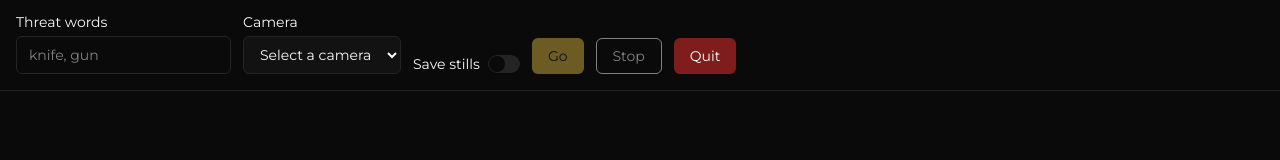
it: test_go_disabled_until_valid_words_and_camera › is disabled until words are valid and a camera is chosen
The image size is (1280, 160).
Check: the button "Go" is disabled, box [532,38,584,74]
Type "knife" into the field with placeholder "knife, gun" at (124, 55), box [16,36,231,74]
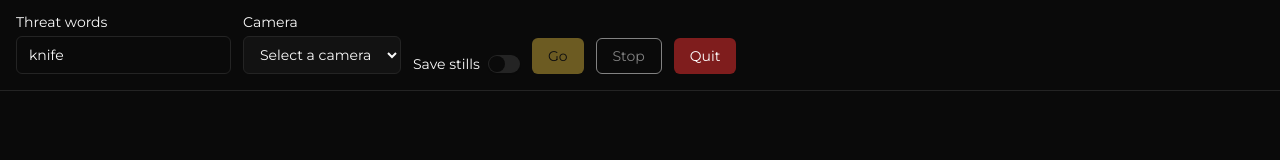
Check: the button "Go" is disabled, box [532,38,584,74]
Select "Cam 1" in the dropdown labelled "Camera" at (322, 55), box [243,36,401,74]
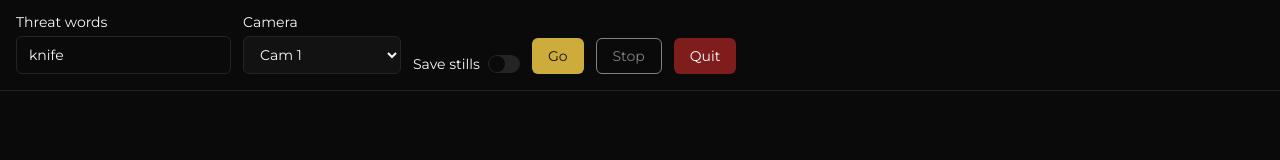
Check: the button "Go" is enabled, box [532,38,584,74]
